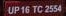character: (13, 5, 19, 15), (7, 6, 13, 15), (31, 4, 37, 13), (43, 4, 49, 13), (36, 5, 42, 13), (24, 5, 29, 14), (48, 4, 53, 12), (52, 4, 57, 12), (20, 5, 24, 14), (57, 4, 61, 12)
